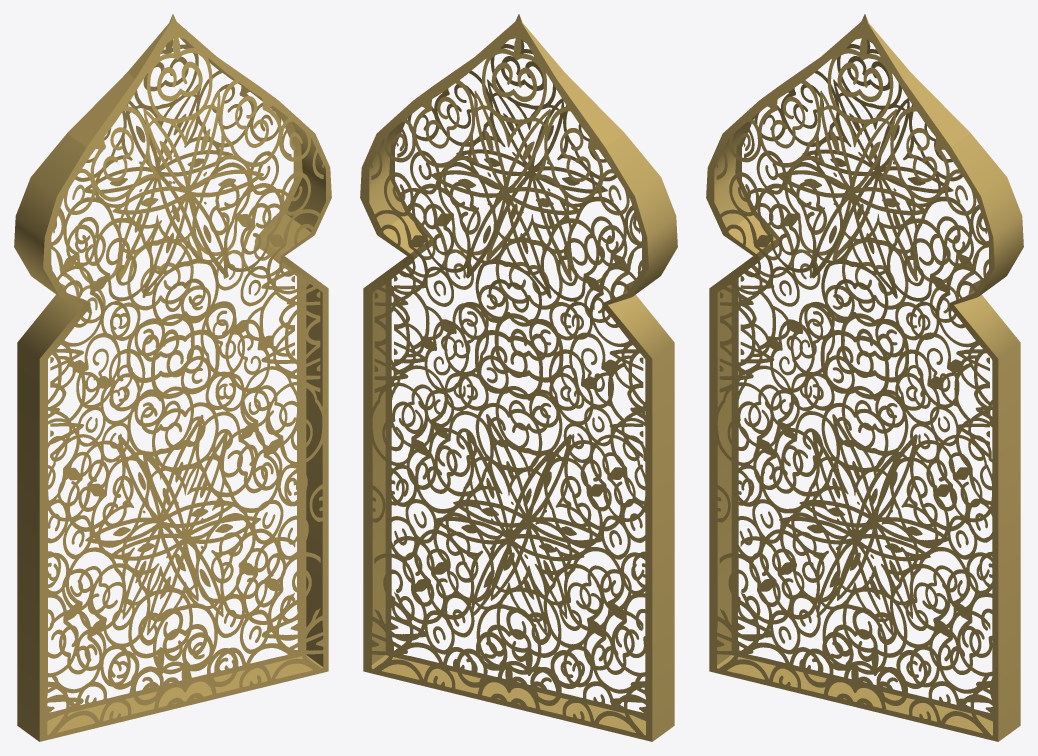
Rendered from door.fbx.
3 renders of one model, left to right at view 1: azimuth 30°, elevation 25°; view 2: azimuth 150°, elevation 25°; view 3: azimuth 330°, elevation 25°, orthographic.
Parts seen in each view (by area): view 1: Door; view 2: Door; view 3: Door.
Part boxes in pixels (x1,y1,x2,y2): Door: [14, 14, 331, 741]; Door: [360, 14, 677, 741]; Door: [706, 14, 1023, 741].
Size of the model in its own units: 125 by 283 by 21.74.
